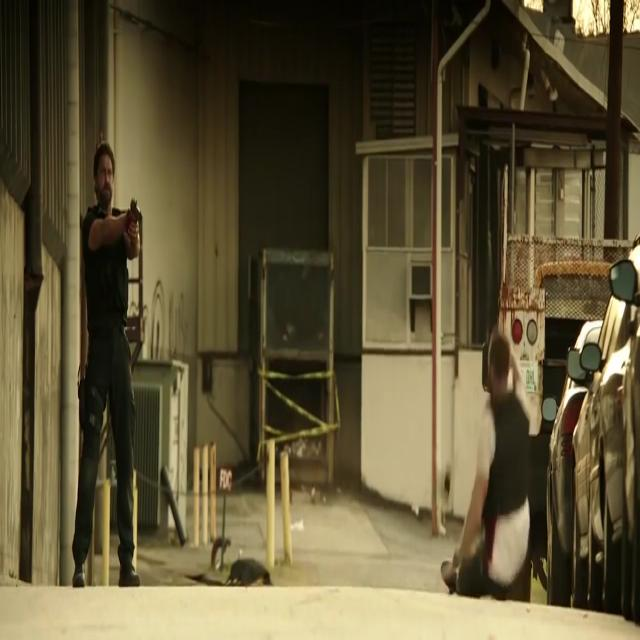Weapon: (122, 191, 152, 234)
